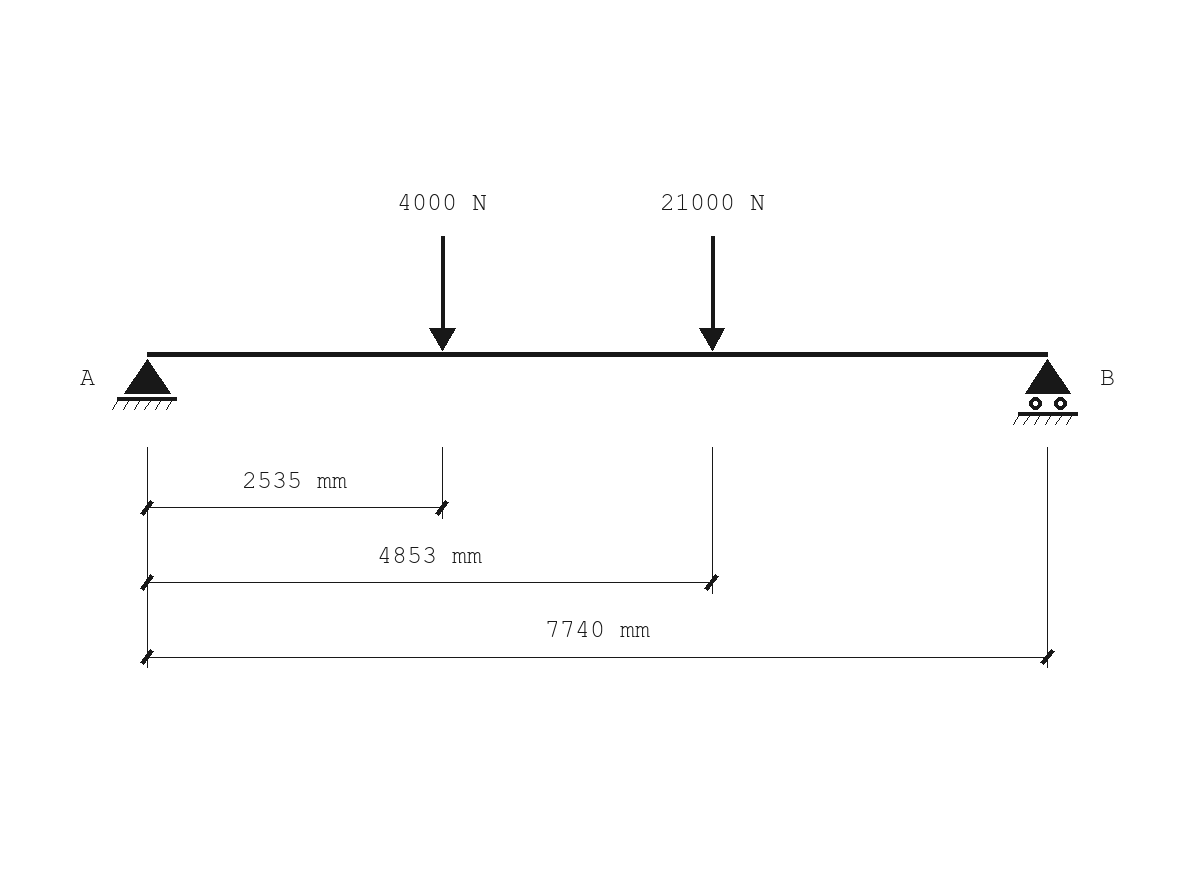pin_support: (112, 359, 177, 410)
point_load: (429, 236, 456, 351), (699, 236, 725, 351)
roller_support: (1013, 359, 1078, 425)
